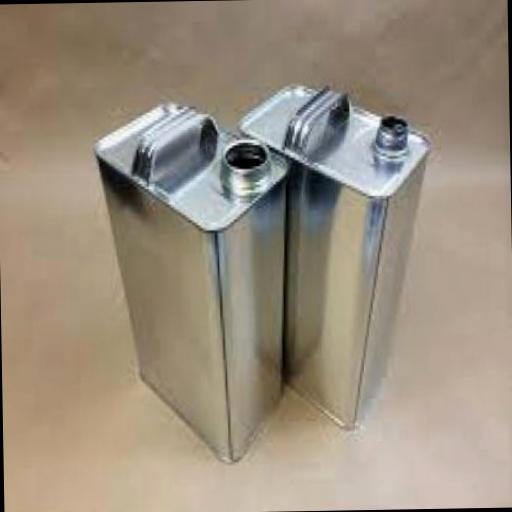metal: (92, 97, 290, 467), (236, 78, 436, 430)
